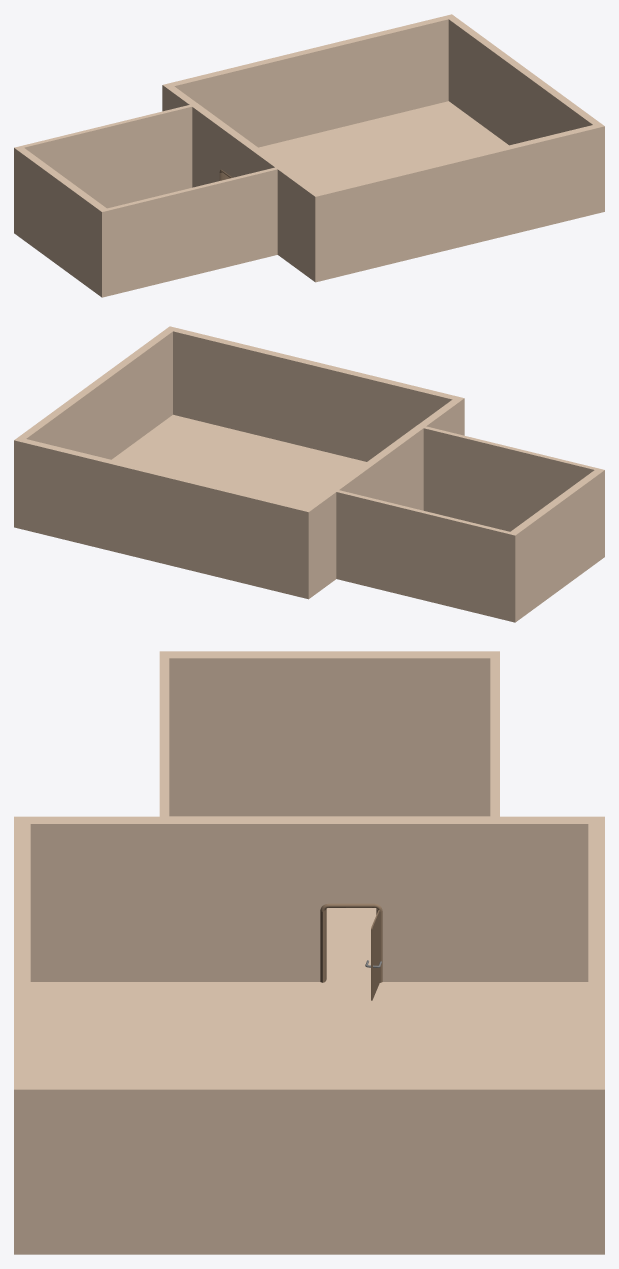
The model's file is ruangan 2.fbx.
3 renders of one model, top to bottom at view 1: azimuth 30°, elevation 25°; view 2: azimuth 150°, elevation 25°; view 3: azimuth 270°, elevation 25°, orthographic. The views are drawn at different scales.
Parts seen in each view (by area): view 1: Cube.030, Cube.007; view 2: Cube.030, Cube.007; view 3: Cube.030, Cube.007, Cylinder.006.
Boxes of the visible parts, left/top/right/bottom form: Cube.030: left=162, top=14, right=604, bottom=282; Cube.007: left=14, top=103, right=284, bottom=297; Cube.030: left=14, top=326, right=464, bottom=599; Cube.007: left=334, top=424, right=604, bottom=622; Cube.030: left=14, top=816, right=604, bottom=1254; Cube.007: left=159, top=651, right=499, bottom=981; Cylinder.006: left=320, top=903, right=382, bottom=982.
Size of the model in its own units: 12696 by 2231 by 7234.
